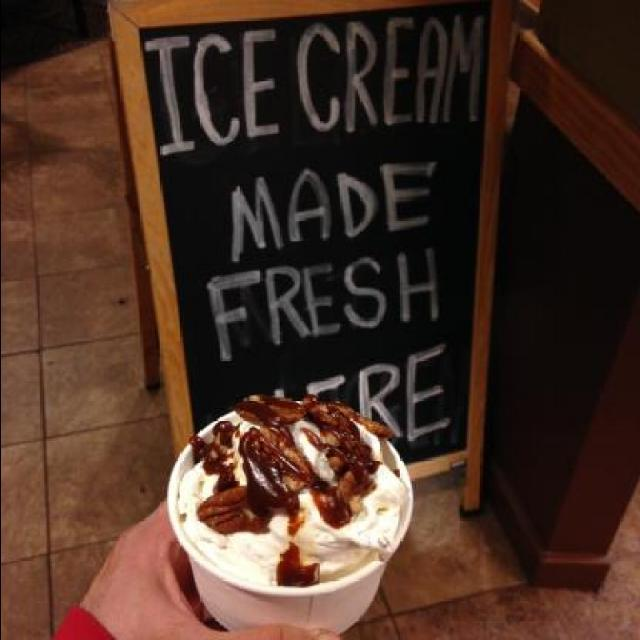Ice cream: (165, 378, 408, 586)
